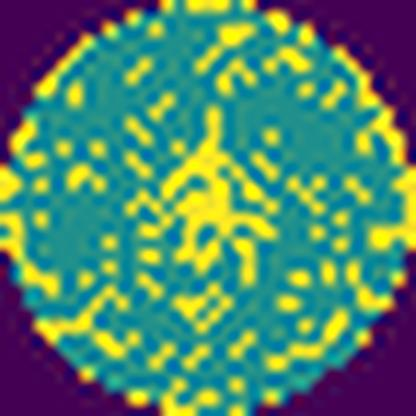Center: (162, 105, 276, 273)
